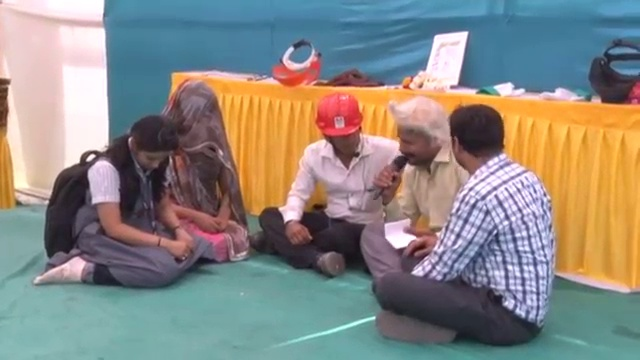helmet: (311, 100, 365, 148)
helmet_off: (446, 102, 512, 182), (394, 95, 450, 168), (164, 80, 223, 149), (120, 113, 179, 180)
helmet_on: (310, 98, 369, 161)
person: (372, 101, 558, 350), (35, 115, 207, 289), (251, 86, 407, 275), (357, 95, 469, 281), (149, 69, 250, 266)
